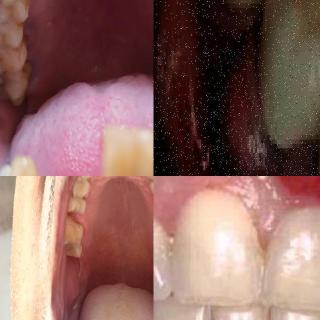Gum Swelling: (203, 0, 313, 176)
stains: (13, 33, 30, 61), (11, 14, 25, 36), (17, 0, 33, 16)
